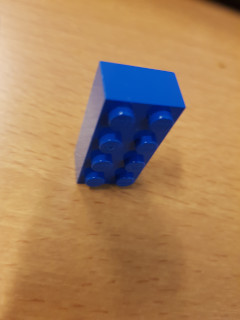2x4 blue: (73, 55, 188, 199)
